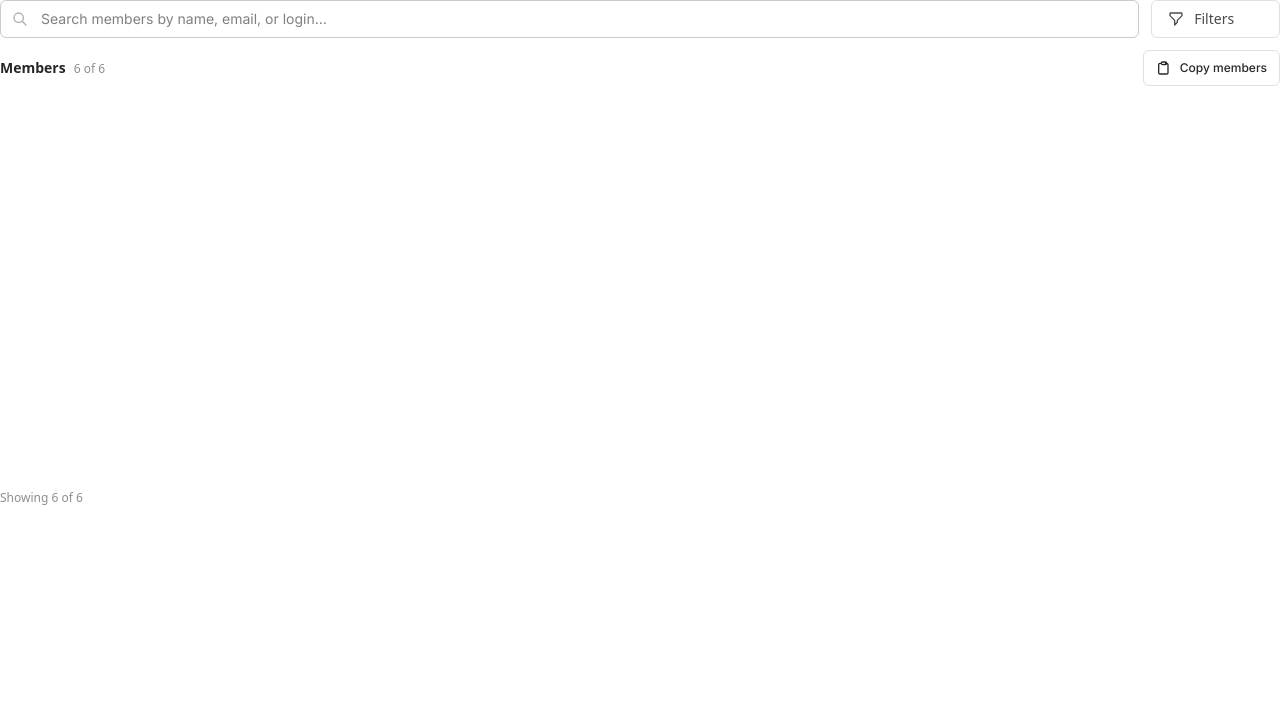
it: the filter drawer › routes an attribute to the shared value reveal, and a value to a filter
This screenshot has width=1280, height=720.
Click the button "Filters" at (1216, 19), box [1151,0,1279,38]
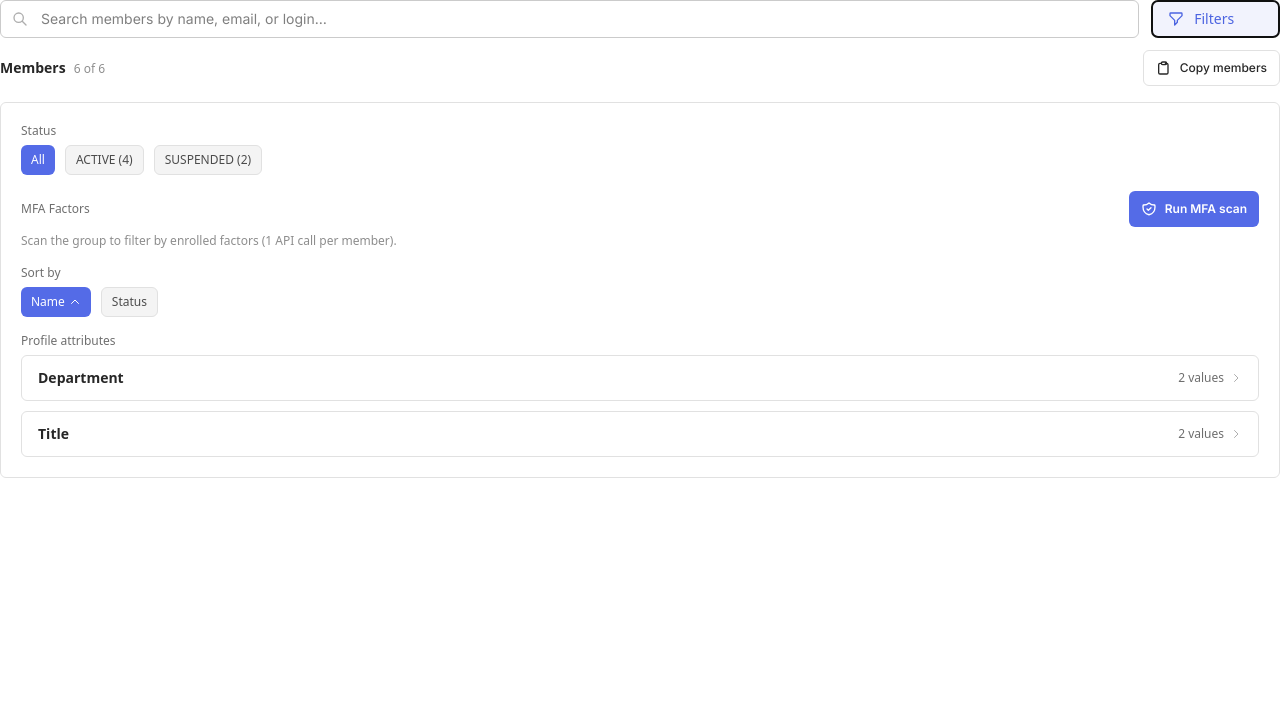
Click the button with aria-label "Department: choose a value to filter by" at (81, 378), box [21,355,1259,401]
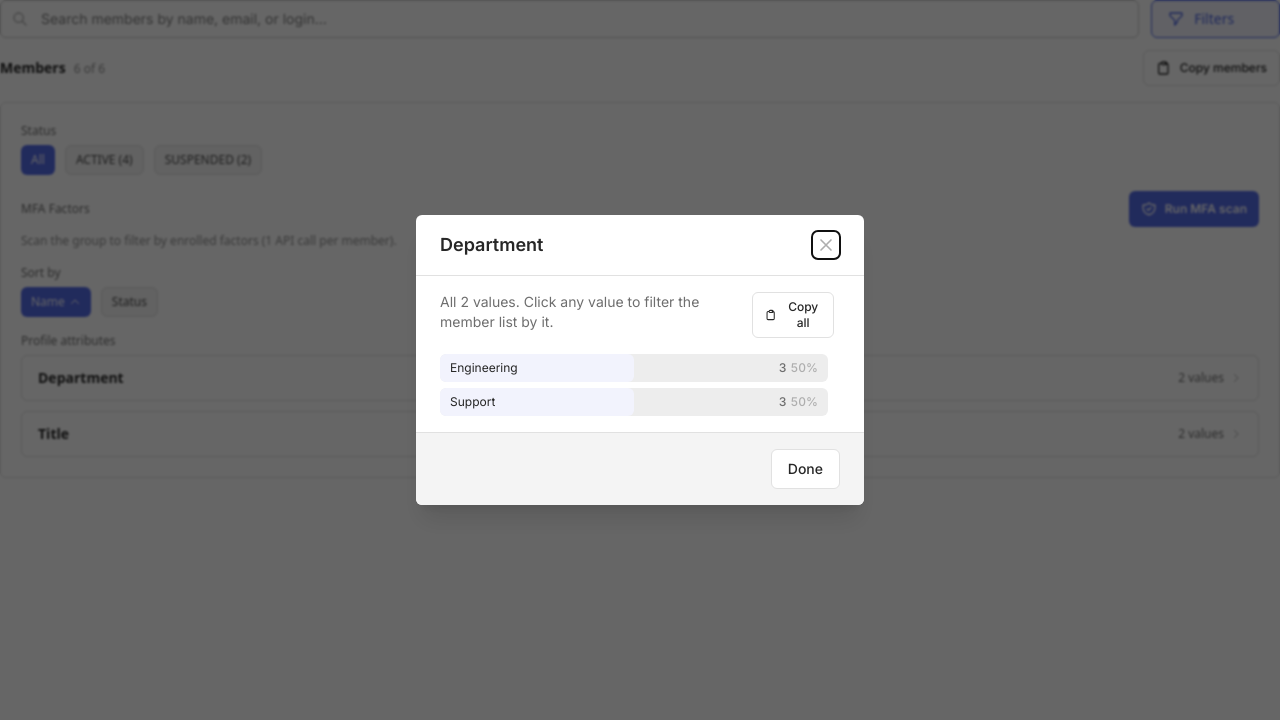
Check: the text "Engineering" is shown
Check: the text "Support" is shown, box [450,394,495,410]
Click the text "Engineering" at (484, 368), box [450,360,518,376]
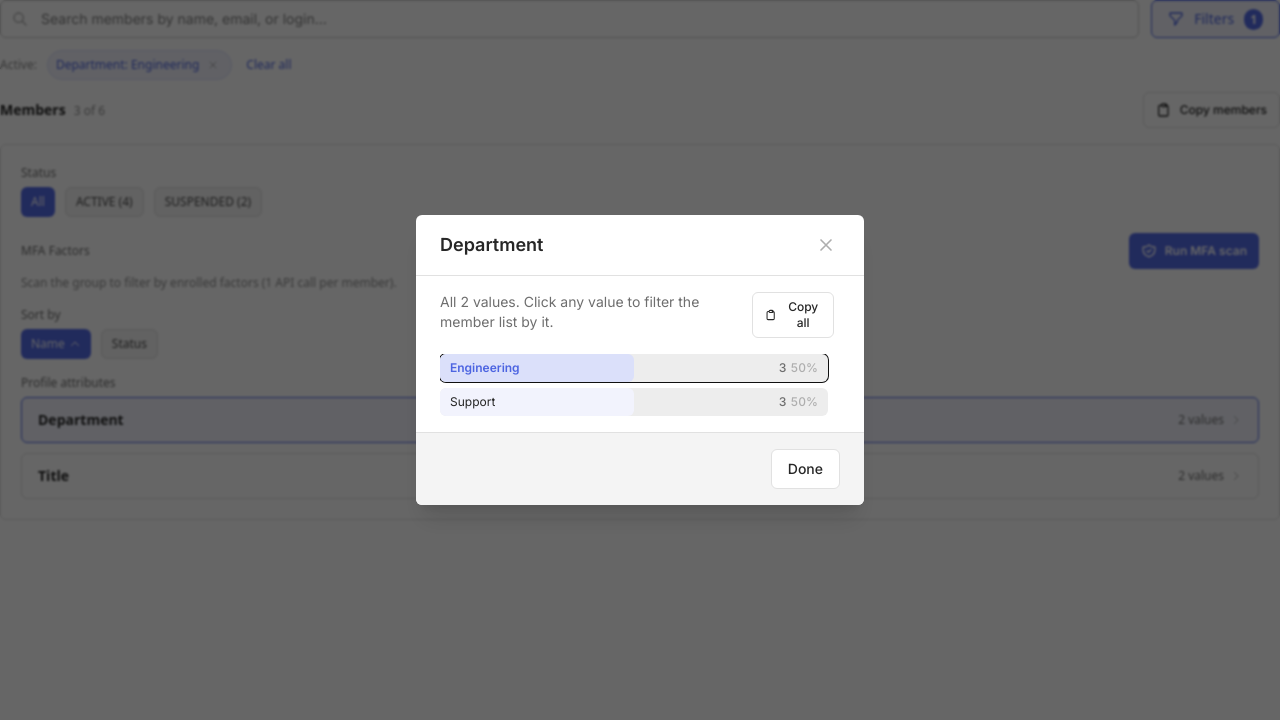
Check: the text "Department: Engineering" is shown, box [47,50,232,80]
